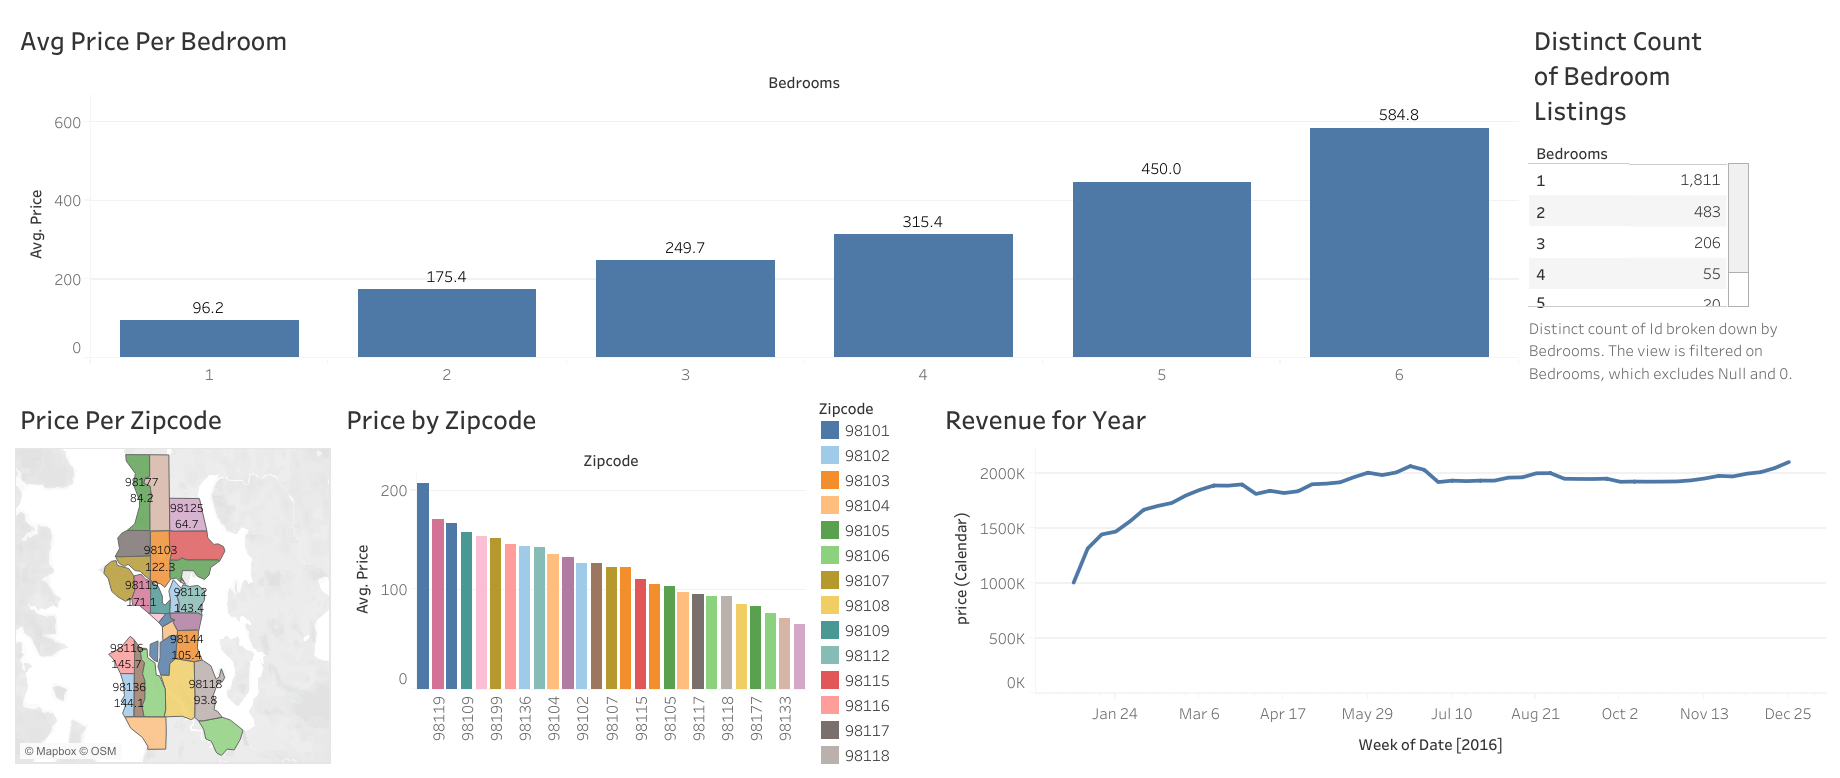

The page's visual inventory and layout, read from the dashboard file:
{"tool":"tableau","page":{"name":"Dashboard 1","canvas":[1000,1000],"units":"permille","ordinal":0},"visuals":[{"type":"worksheet","title":"Sheet 4","mark":"Automatic","rows":["price"],"cols":["bedrooms"],"box":[4.8,10,737.5,490]},{"type":"worksheet","title":"Sheet 5","mark":"Automatic","rows":["bedrooms"],"box":[742.3,10,252.9,490]},{"type":"worksheet","title":"Sheet 2","mark":"Multipolygon","box":[4.8,500,205.3,490]},{"type":"worksheet","title":"Sheet 1","mark":"Automatic","rows":["price"],"cols":["zipcode"],"box":[210.1,500,327.6,490]},{"type":"legend","title":"Sheet 1","param":"[federated.1q1dfwv0aypywr133e36d0dyocuq].[none:zipcode:ok]","box":[537.7,500,51.9,490]},{"type":"worksheet","title":"Sheet 3","mark":"Automatic","rows":["price (Calendar)"],"cols":["date"],"box":[589.6,500,405.6,490]}]}

Visuals, with their boxes on the dashboard's canvas, which has no fixed pixel size, in thousandths of its width and height (x1, y1, x2, y2). These are canvas units, not pixel positions in the 1840x778 screenshot, which may show the page scaled, cropped or inside an application window:
"Sheet 4" worksheet: x1=5, y1=10, x2=742, y2=500
"Sheet 5" worksheet: x1=742, y1=10, x2=995, y2=500
"Sheet 2" worksheet (Multipolygon marks): x1=5, y1=500, x2=210, y2=990
"Sheet 1" worksheet: x1=210, y1=500, x2=538, y2=990
"Sheet 1" legend: x1=538, y1=500, x2=590, y2=990
"Sheet 3" worksheet: x1=590, y1=500, x2=995, y2=990
